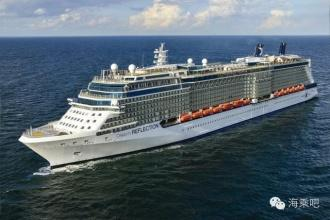youlun: (19, 37, 318, 167)
